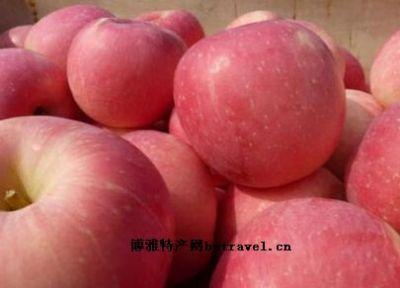apple: (2, 116, 176, 288), (174, 21, 347, 187), (208, 197, 400, 288), (67, 17, 180, 129), (1, 47, 71, 120)
